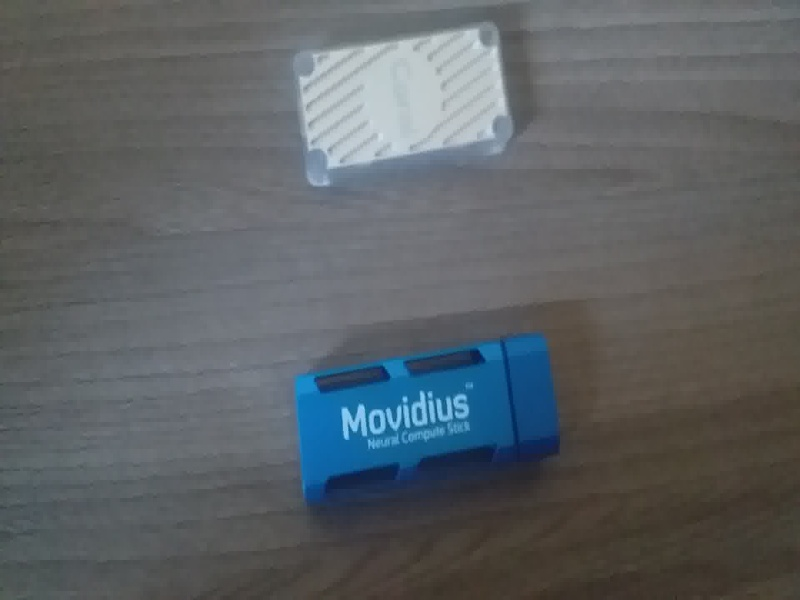coral: (281, 23, 532, 206)
movidius: (284, 336, 568, 508)
